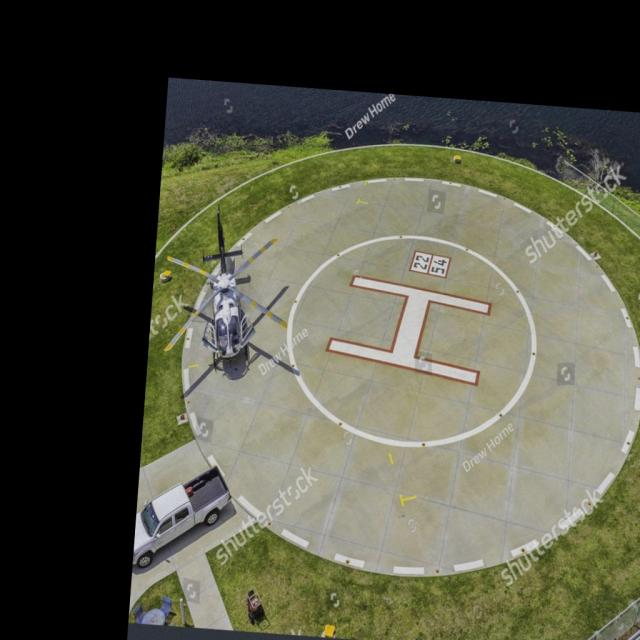helipad: (284, 227, 542, 452)
